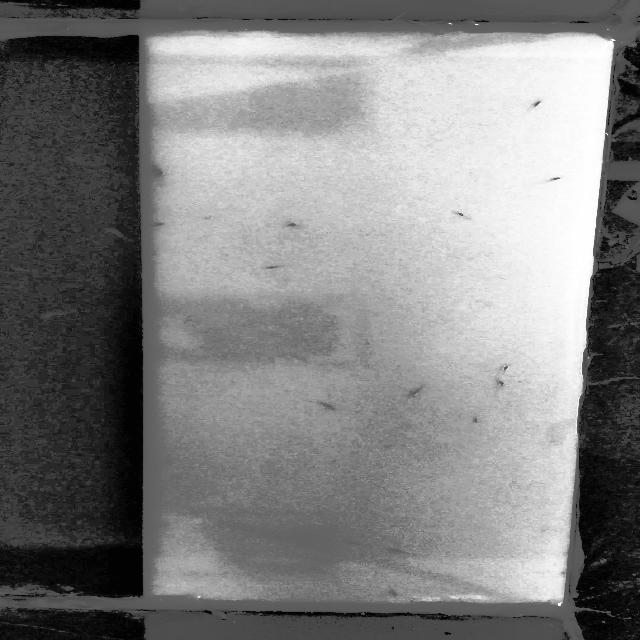shrimp: (316, 396, 353, 414), (402, 380, 431, 400), (256, 259, 296, 272), (340, 538, 377, 551), (384, 542, 414, 558), (528, 174, 565, 186), (384, 583, 409, 600), (450, 210, 478, 223), (149, 168, 174, 182), (525, 98, 550, 112), (463, 411, 483, 427), (494, 363, 518, 373), (147, 220, 177, 228), (488, 377, 508, 388), (148, 163, 168, 174), (282, 222, 304, 229)
